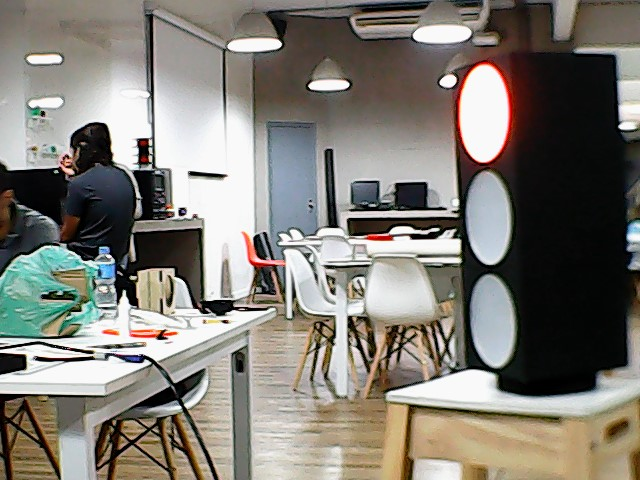vermelho: (450, 50, 632, 374)
